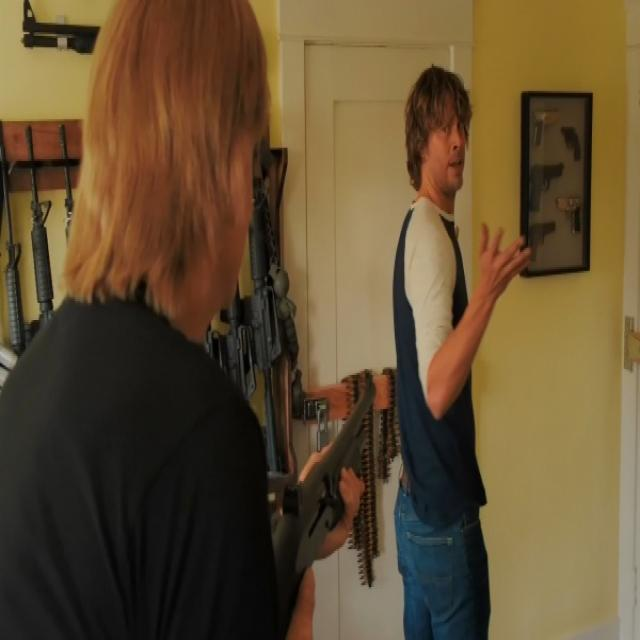rifle: (273, 377, 378, 594)
